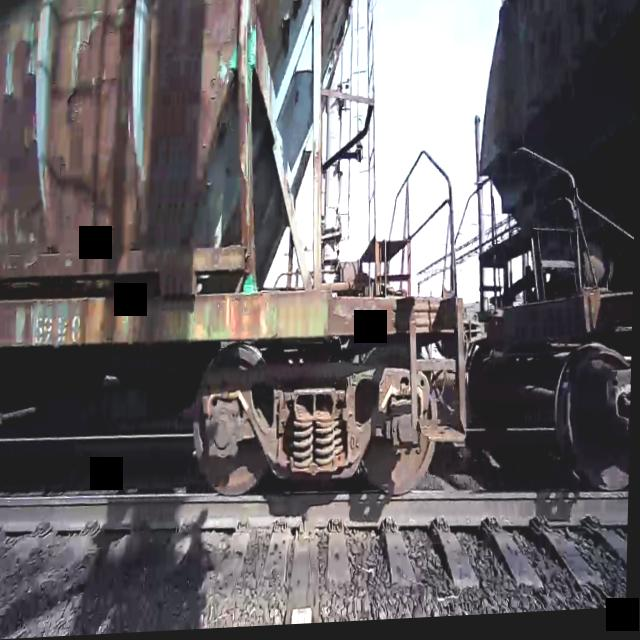hopper: (0, 0, 483, 520)
